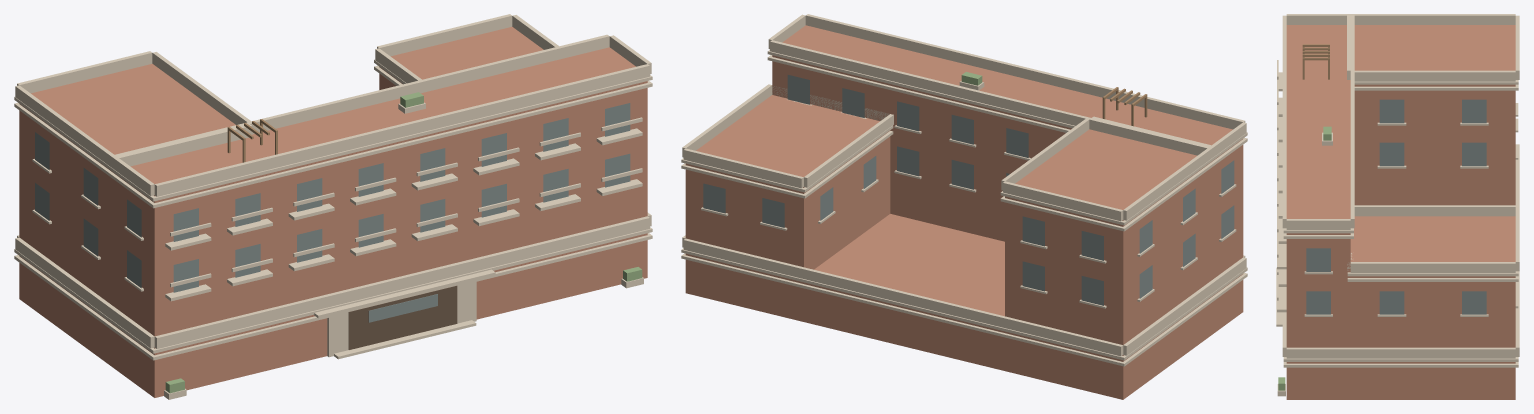
File: residential_4x2_court.glb
3 views of the same model, side by side, from view 1: azimuth 30°, elevation 25°; view 2: azimuth 150°, elevation 25°; view 3: azimuth 270°, elevation 25° (orthographic). The views are drawn at different scales.
Parts seen in each view (by area): view 1: residential_4x2_court_0; view 2: residential_4x2_court_0; view 3: residential_4x2_court_0.
Part boxes in pixels (left/top/right/bottom): residential_4x2_court_0: left=14, top=14, right=652, bottom=399; residential_4x2_court_0: left=681, top=14, right=1247, bottom=399; residential_4x2_court_0: left=1276, top=14, right=1519, bottom=399.
Size of the model in its own units: 31 by 13.5 by 15.4.
